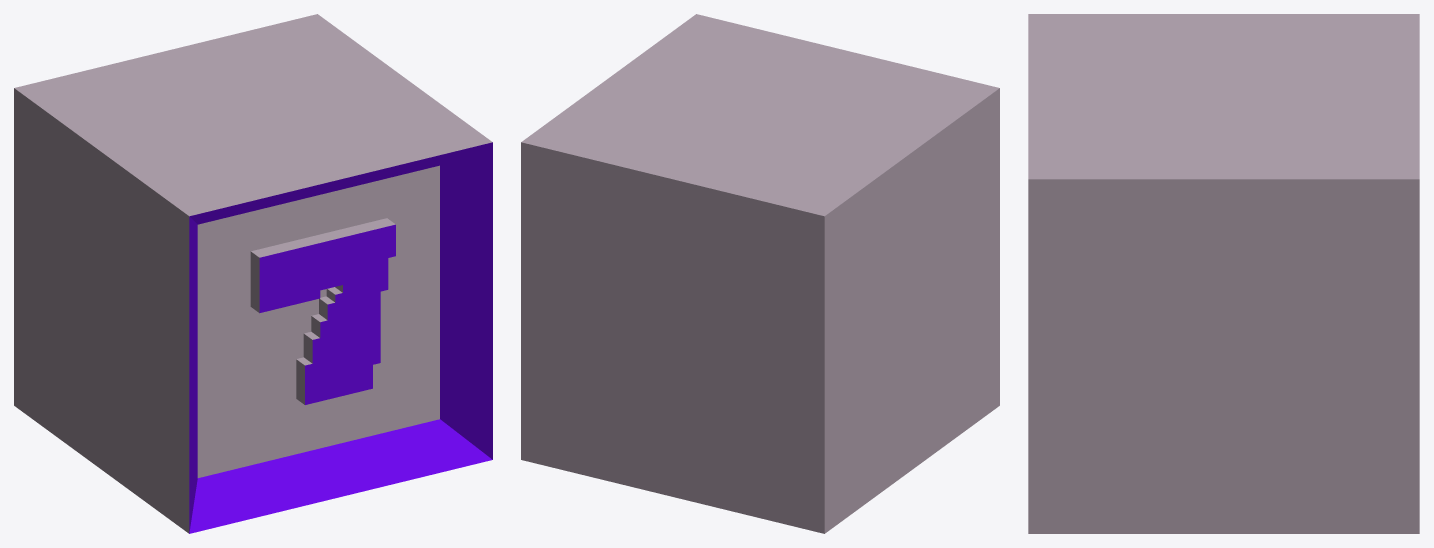
The model's file is Block7.fbx.
3 views of the same model, side by side, from view 1: azimuth 30°, elevation 25°; view 2: azimuth 150°, elevation 25°; view 3: azimuth 270°, elevation 25° (orthographic). The views are drawn at different scales.
Parts seen in each view (by area): view 1: Cube; view 2: Cube; view 3: Cube.
Boxes of the visible parts, left/top/right/bottom form: Cube: left=14, top=14, right=492, bottom=533; Cube: left=521, top=14, right=999, bottom=533; Cube: left=1028, top=14, right=1419, bottom=533.
Bounding box in the file's own units: 2000 × 2000 × 2000.
